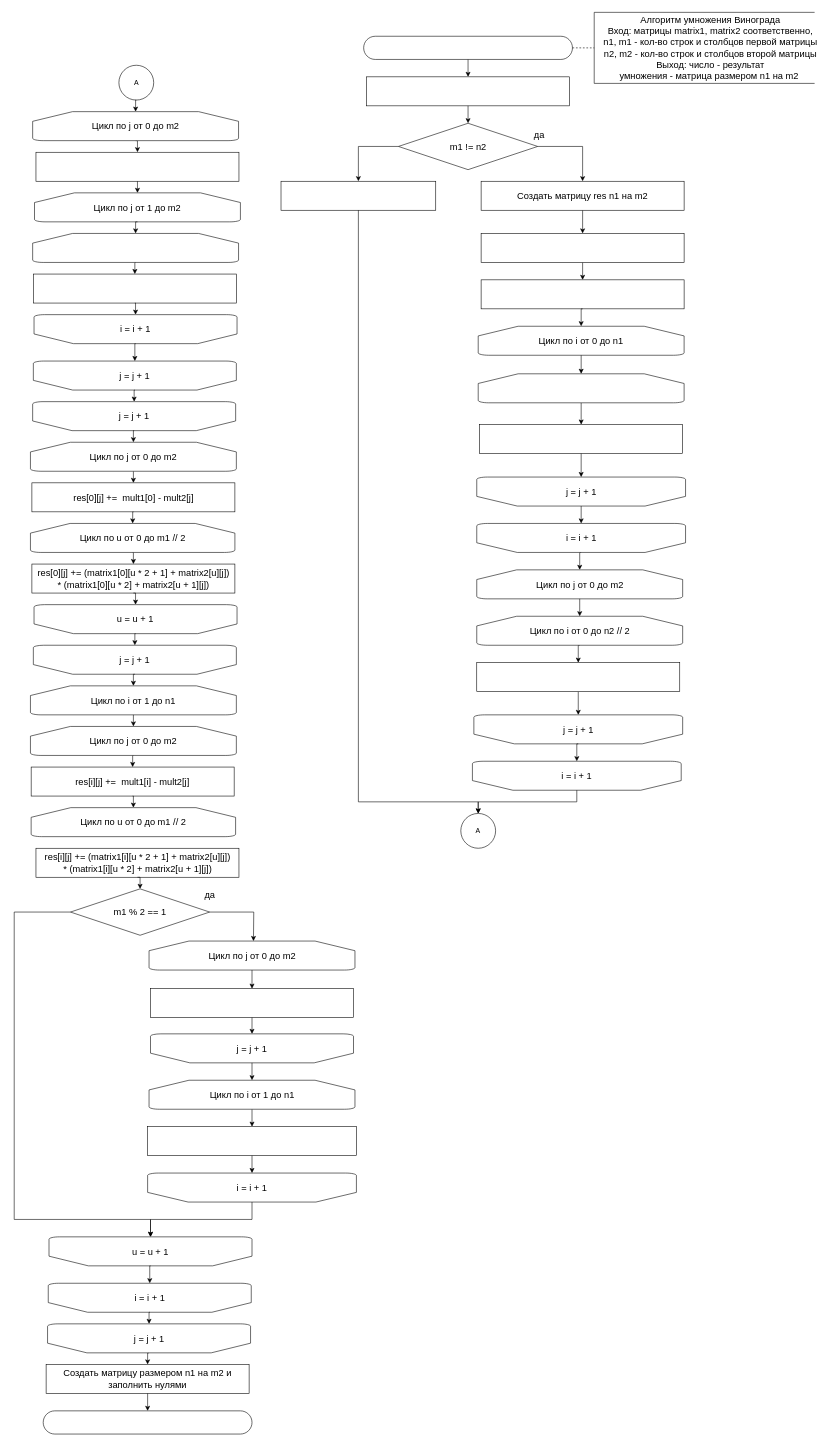
Image size: 836x1444. Some labels were removed from this diagram. The shapes that lost their labels are listed below. From the top down, each one's centre as x and y in pixels, then its label:
pixel 467 47: Начало
pixel 468 91: Ввести размерности матриц n1, m1 и n2, m2
pixel 137 166: mult2[0] += matrix2[0][j] * matrix2[1][j]
pixel 358 195: Вывести "Wrong sizes."
pixel 135 247: Цикл по i от 0 до n2 / 2
pixel 582 247: Создать массив размером n1 и заполнить нулями
pixel 134 288: mult2[j] += matrix2[i * 2][j] * matrix2[(i * 2) + 1][j]
pixel 582 294: Создать массив размером m2 и заполнить нулями
pixel 581 388: Цикл по j от 0 до m1 // 2
pixel 581 439: mult1[i] += matrix1[i][j*2] * matrix1[i][j*2+1]
pixel 578 677: mult2[j] += matrix2[i*2][j] * matrix2[i*2+1][j]
pixel 252 1003: res[0][j] += matrix1[0][m1 - 1] * matrix2[m1 - 1][j]
pixel 251 1141: res[i][j] += matrix1[i][m1 - 1] * matrix2[m1 - 1][j]
pixel 147 1422: Конец
